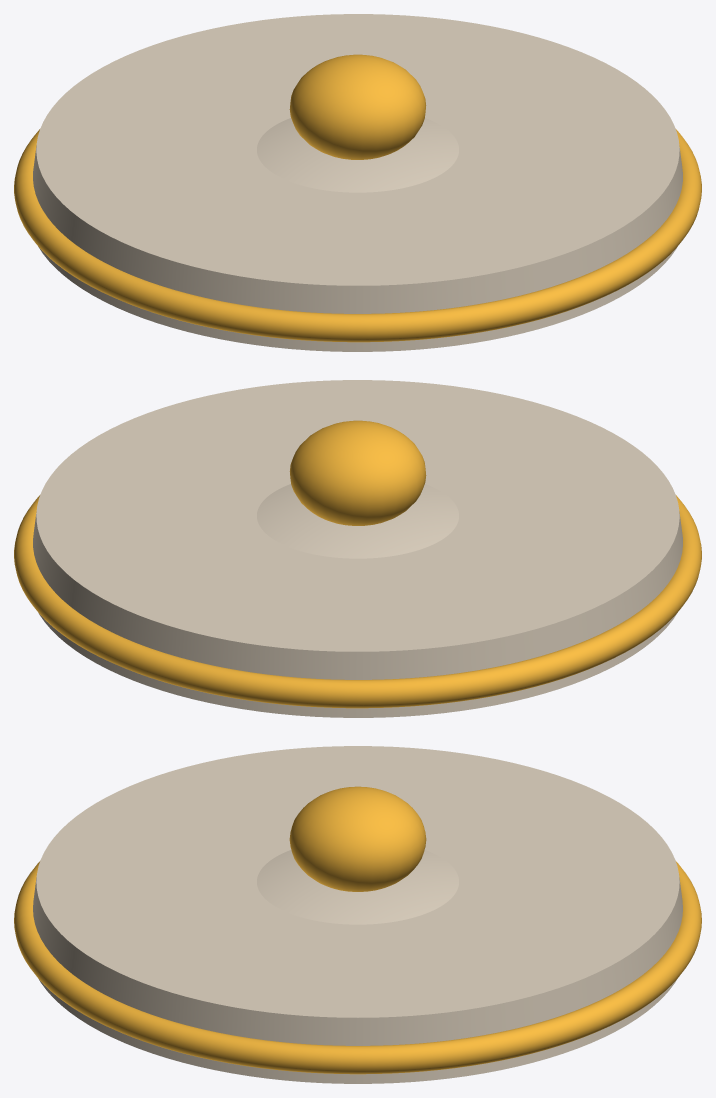
File: jar_lid.glb
The picture shows the model from 3 angles, top to bottom: view 1: azimuth 30°, elevation 25°; view 2: azimuth 150°, elevation 25°; view 3: azimuth 270°, elevation 25°; orthographic projection.
Visible parts, largest first — view 1: cap, band, knob, dome; view 2: cap, band, knob, dome; view 3: cap, band, knob, dome.
Boxes of the visible parts, x1=… form: cap: x1=33, y1=14, x2=682, y2=351; band: x1=14, y1=129, x2=701, y2=342; knob: x1=289, y1=54, x2=426, y2=159; dome: x1=257, y1=118, x2=458, y2=192; cap: x1=33, y1=380, x2=682, y2=717; band: x1=14, y1=495, x2=701, y2=708; knob: x1=289, y1=420, x2=426, y2=525; dome: x1=257, y1=484, x2=458, y2=558; cap: x1=33, y1=746, x2=682, y2=1083; band: x1=14, y1=861, x2=701, y2=1074; knob: x1=289, y1=786, x2=426, y2=891; dome: x1=257, y1=850, x2=458, y2=924.
Bounding box in the file's own units: 1.69 × 0.405 × 1.69.
